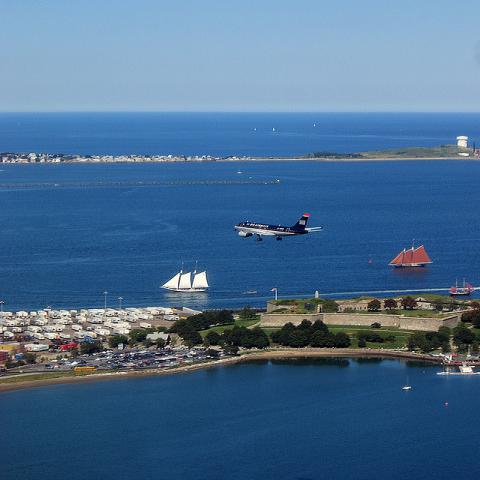bus: (73, 367, 98, 371)
car: (1, 310, 227, 369), (134, 355, 145, 359), (176, 360, 187, 364), (44, 364, 52, 369), (106, 363, 114, 368), (110, 366, 118, 370), (194, 357, 201, 361), (80, 354, 89, 357), (144, 362, 153, 365), (88, 363, 94, 367), (55, 365, 61, 368), (139, 364, 144, 366), (156, 361, 160, 363), (118, 365, 122, 367)
